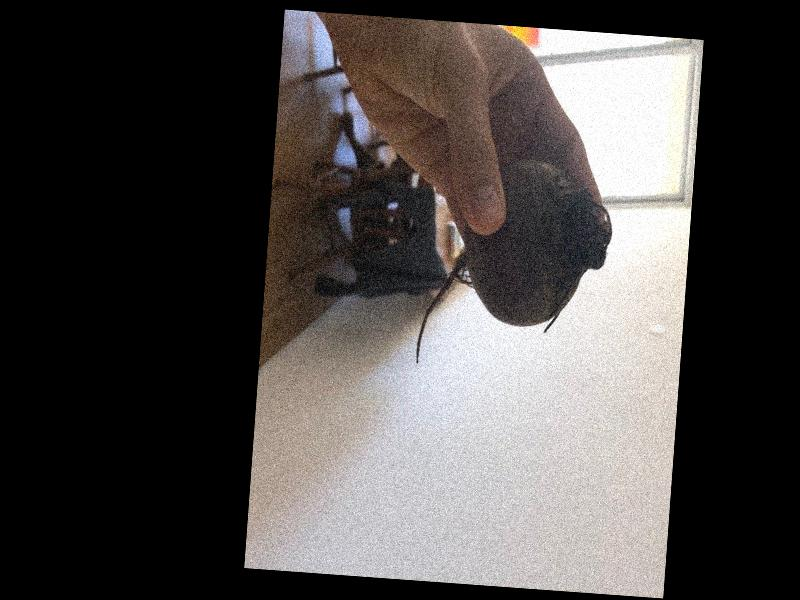Beet: (415, 152, 617, 378)
